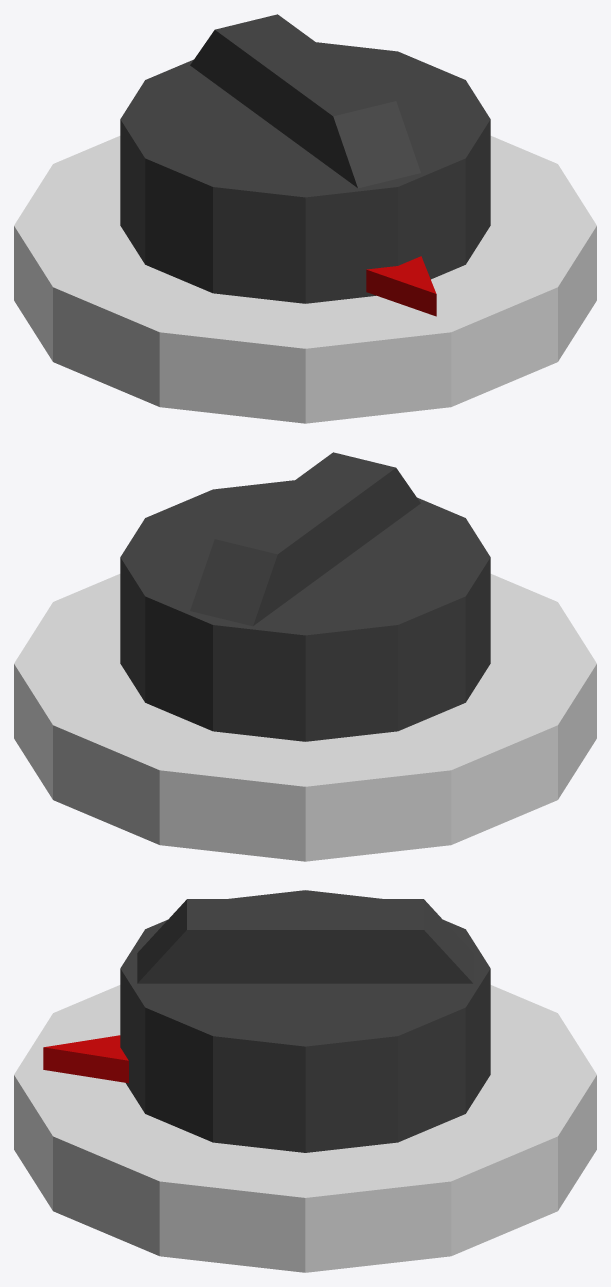
File: Dial.fbx
3 views of the same model, one above another, from view 1: azimuth 30°, elevation 25°; view 2: azimuth 150°, elevation 25°; view 3: azimuth 270°, elevation 25° (orthographic).
Parts seen in each view (by area): view 1: Cylinder.009, Cube.015; view 2: Cylinder.009, Cube.015; view 3: Cube.015, Cylinder.009.
Boxes of the visible parts, x1,y1,x2,y2 form: Cylinder.009: [14, 136, 596, 423]; Cube.015: [120, 14, 490, 316]; Cylinder.009: [14, 574, 596, 861]; Cube.015: [120, 452, 490, 741]; Cube.015: [43, 890, 490, 1152]; Cylinder.009: [14, 985, 596, 1272].
Size of the model in its own units: 222 by 98.64 by 222.
